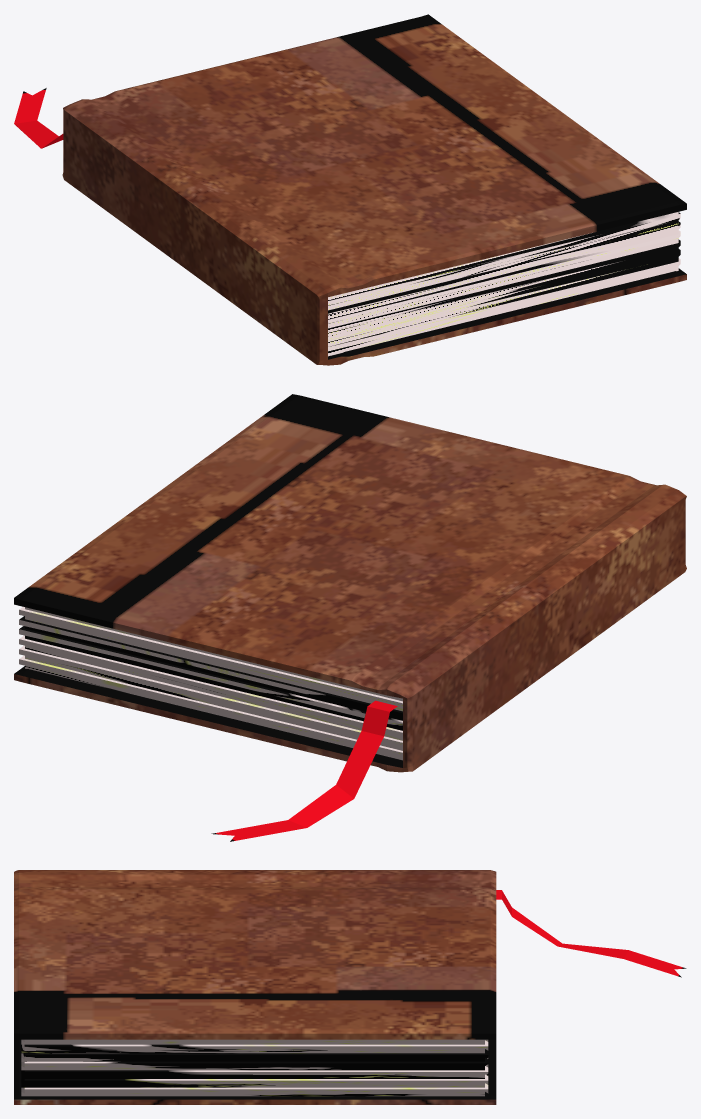
File: journal.obj
3 renders of one model, top to bottom at view 1: azimuth 30°, elevation 25°; view 2: azimuth 150°, elevation 25°; view 3: azimuth 270°, elevation 25°, orthographic. The views are drawn at different scales.
Parts seen in each view (by area): view 1: spine_Plane.001; view 2: spine_Plane.001; view 3: spine_Plane.001.
Part boxes in pixels (left/top/right/bottom): spine_Plane.001: left=14, top=14, right=686, bottom=365; spine_Plane.001: left=14, top=394, right=686, bottom=841; spine_Plane.001: left=14, top=870, right=686, bottom=1104.
Bounding box in the file's own units: 1.56 × 0.324 × 2.66.
